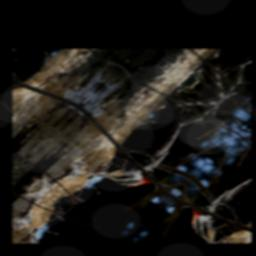Woodpecker: (89, 83, 226, 201)
